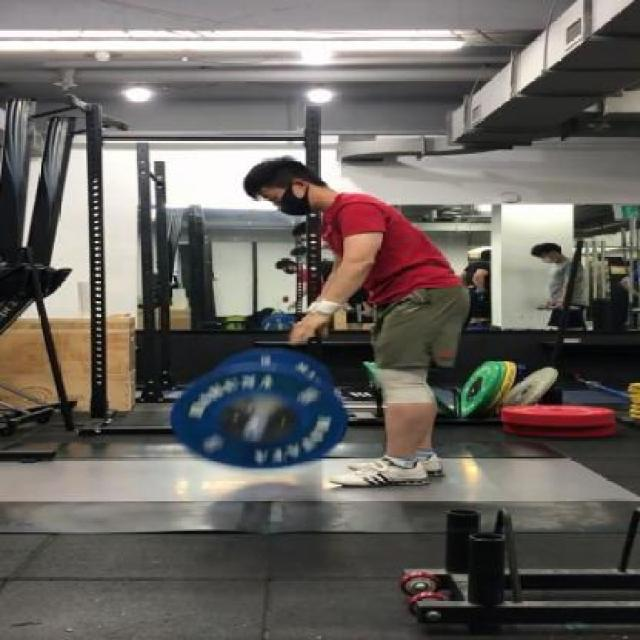barbell: (165, 364, 353, 472)
